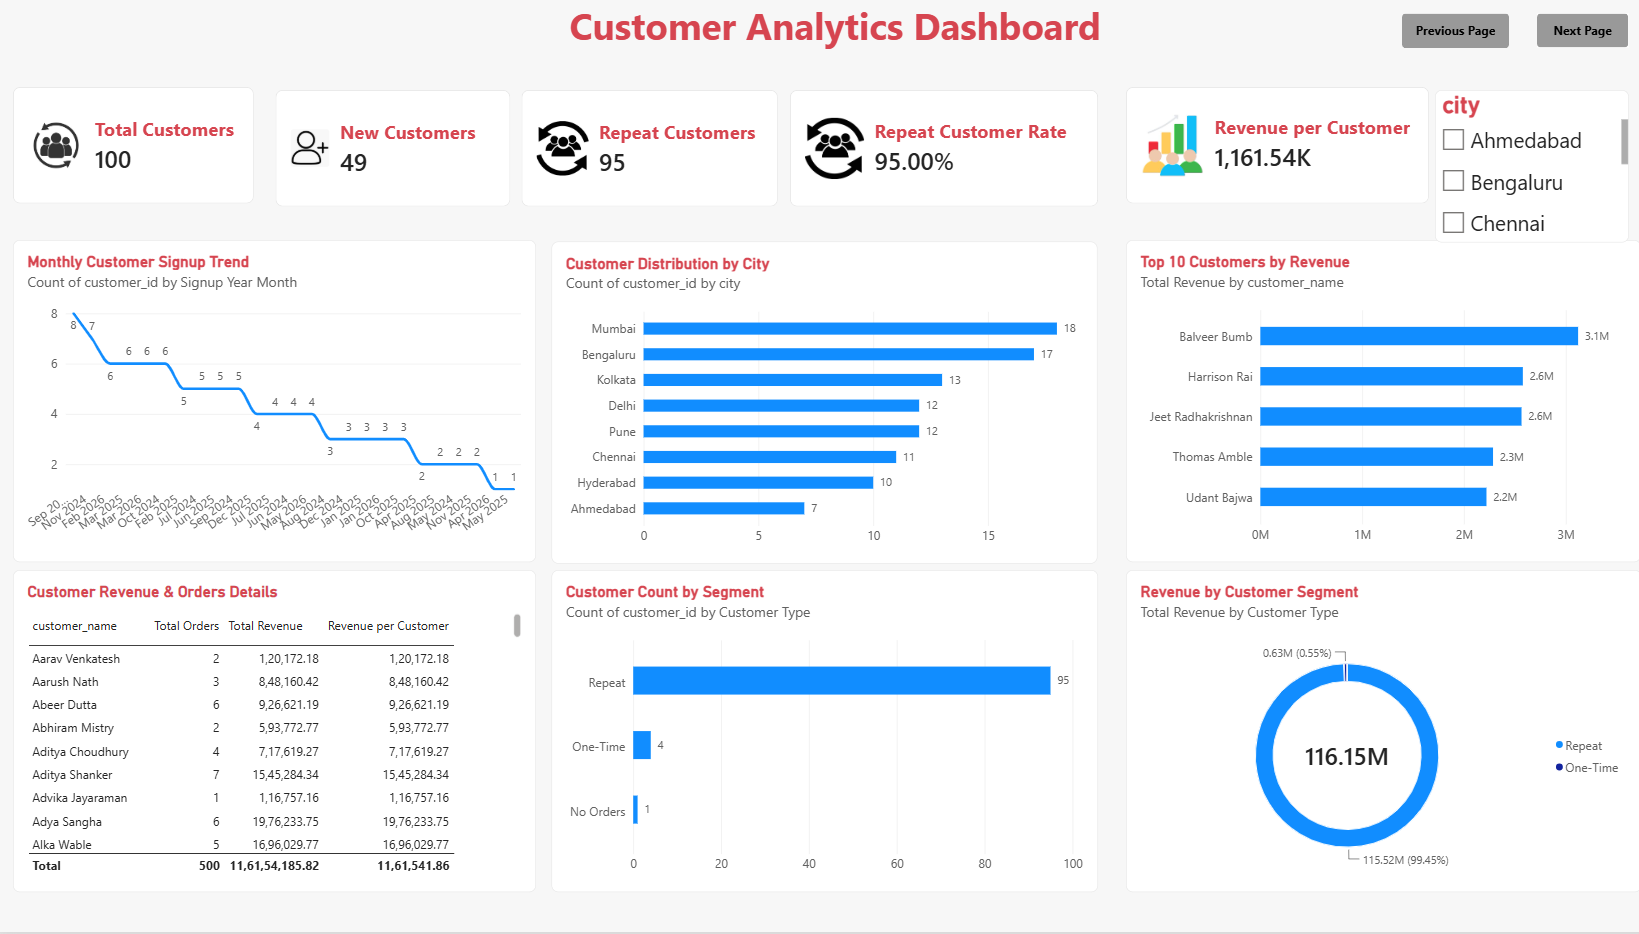

This screenshot's page, from the dashboard's own definition file:
{"tool":"powerbi","page":{"name":"Customer Analytics","canvas":[1920,1080],"ordinal":1},"visuals":[{"type":"textbox","box":[662.2,0,644.8,74.7],"z":0},{"type":"cardVisual","fields":{"Data":["customers.Total Customers"]},"box":[18,101,279.5,135.3],"z":1000},{"type":"cardVisual","fields":{"Data":["customers.New Customers"]},"box":[321,104.6,272.3,135.3],"z":2000},{"type":"cardVisual","fields":{"Data":["customers.Repeat Customers"]},"box":[606.6,104.3,297.2,135.6],"z":3000},{"type":"cardVisual","fields":{"Data":["customers.Repeat Customer Rate"]},"box":[917.7,104.3,357.1,135.3],"z":4000},{"type":"cardVisual","fields":{"Data":["customers.Revenue per Customer"]},"box":[1307,100.8,351.7,135.3],"z":5000},{"type":"lineChart","title":"Monthly Customer Signup Trend","fields":{"Category":["customers.Signup Year Month"],"Y":["CountNonNull(customers.customer_id)"]},"box":[18,277.7,605.9,373.3],"z":6000},{"type":"clusteredBarChart","title":"Customer Distribution by City","fields":{"Category":["customers.city"],"Y":["CountNonNull(customers.customer_id)"]},"box":[642,279.5,633,373.3],"z":7000},{"type":"clusteredBarChart","title":"Top 10 Customers by Revenue","fields":{"Category":["customers.customer_name"],"Y":["order_items.Total Revenue"]},"box":[1307.5,277.7,596.9,373.3],"z":8000},{"type":"tableEx","title":"Customer Revenue & Orders Details","fields":{"Values":["customers.customer_name","order_items.Total Orders","order_items.Total Revenue","customers.Revenue per Customer"]},"box":[18,661,606,373],"z":9000},{"type":"clusteredBarChart","title":"Customer Count by Segment","fields":{"Category":["customers.Customer Type"],"Y":["Count(customers.customer_id)"]},"box":[642,661,633,373],"z":10000},{"type":"donutChart","title":"Revenue by Customer Segment","fields":{"Category":["customers.Customer Type"],"Y":["order_items.Total Revenue"]},"box":[1307,661,597,373],"z":11000},{"type":"slicer","fields":{"Values":["customers.city"]},"box":[1665.3,104,224.3,176.9],"z":12000},{"type":"actionButton","box":[1783.8,16.4,105.7,39.4],"z":12001},{"type":"actionButton","box":[1627,16.4,124,40.1],"z":12002}]}

Visuals, with their boxes in screenshot pixels (x1, y1, x2, y2), scaled from the page's 1920x1080 canvas onto the 1639x934 screenshot:
textbox: 565, 0, 1116, 65
cardVisual - customers.Total Customers: 15, 87, 254, 204
cardVisual - customers.New Customers: 274, 90, 506, 207
cardVisual - customers.Repeat Customers: 518, 90, 772, 207
cardVisual - customers.Repeat Customer Rate: 783, 90, 1088, 207
cardVisual - customers.Revenue per Customer: 1116, 87, 1416, 204
"Monthly Customer Signup Trend" lineChart: 15, 240, 533, 563
"Customer Distribution by City" clusteredBarChart: 548, 242, 1088, 565
"Top 10 Customers by Revenue" clusteredBarChart: 1116, 240, 1626, 563
"Customer Revenue & Orders Details" tableEx: 15, 572, 533, 894
"Customer Count by Segment" clusteredBarChart: 548, 572, 1088, 894
"Revenue by Customer Segment" donutChart: 1116, 572, 1625, 894
slicer - customers.city: 1422, 90, 1613, 243
actionButton: 1523, 14, 1613, 48
actionButton: 1389, 14, 1495, 49
